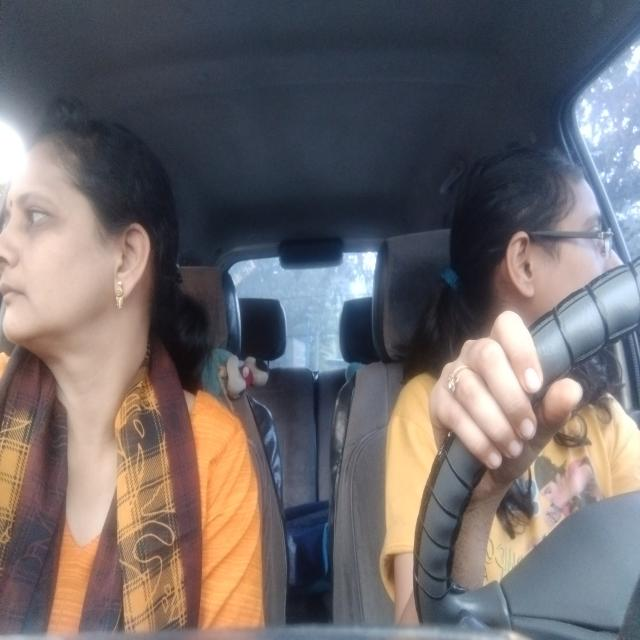person: (1, 101, 182, 387), (460, 142, 635, 390)
